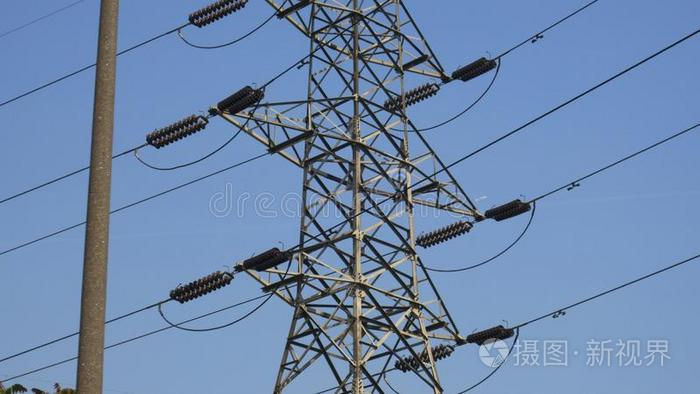insulator: (170, 268, 231, 303), (146, 114, 201, 149), (382, 81, 438, 113), (216, 84, 267, 118), (415, 219, 472, 249), (393, 345, 451, 370), (186, 1, 238, 28), (452, 52, 496, 83), (466, 321, 513, 349), (244, 244, 289, 272), (486, 196, 530, 221)
